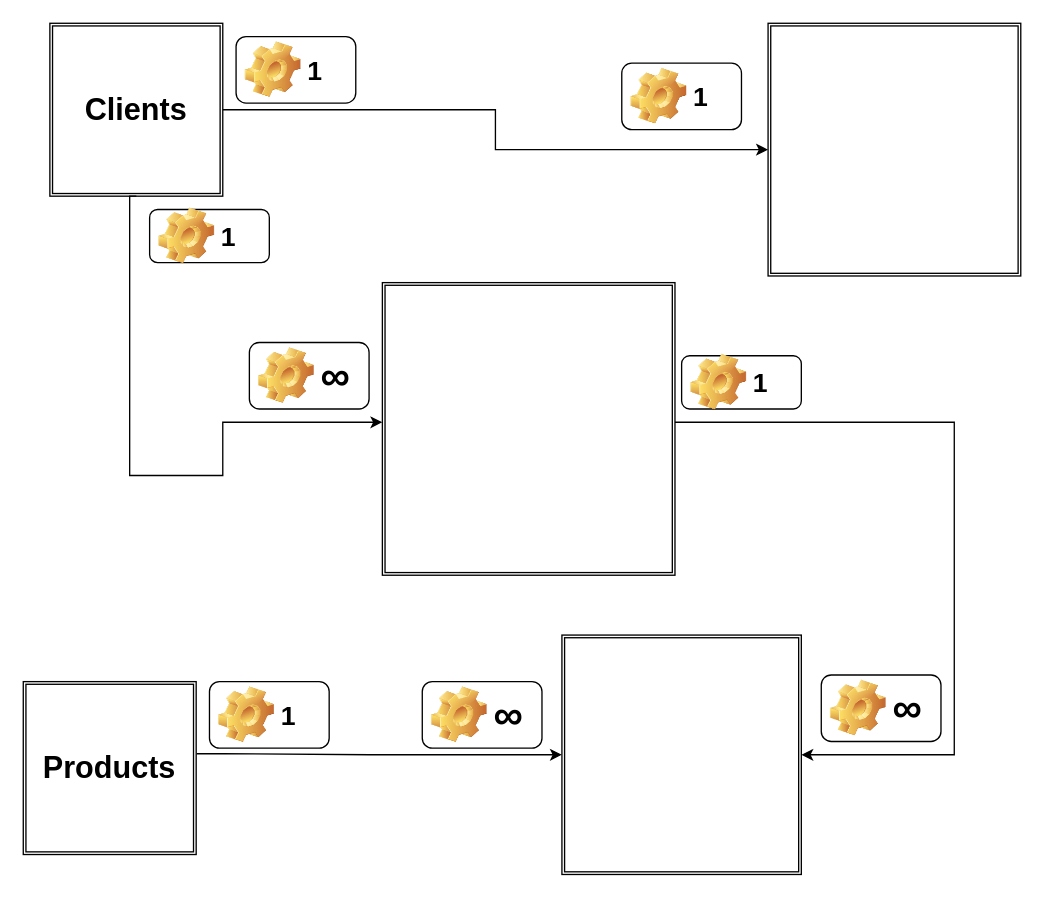
The diagram is 1044 pixels wide and 898 high, and some of its shapes have lost their labels. The shapes that lost their labels are listed below. From the top down, each one's centre as x and y in pixels, then its label:
At point (894, 149): "Client_Adresses".
At point (528, 428): "Orders".
At point (681, 754): "Order_Items".
